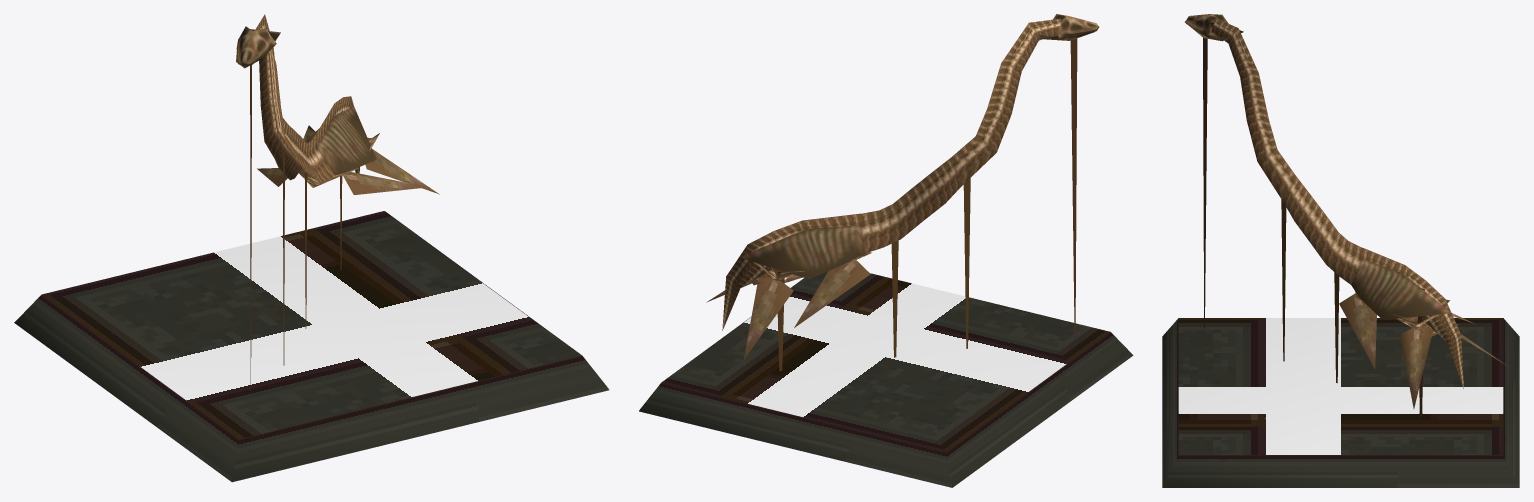
The model's file is int_din_suz_m.dae.
3 renders of one model, left to right at view 1: azimuth 30°, elevation 25°; view 2: azimuth 150°, elevation 25°; view 3: azimuth 270°, elevation 25°, orthographic. The views are drawn at different scales.
Parts seen in each view (by area): view 1: int_din_suz_m; view 2: int_din_suz_m; view 3: int_din_suz_m.
Part boxes in pixels (<box>): int_din_suz_m: <box>14,14,609,482</box>; int_din_suz_m: <box>639,14,1133,487</box>; int_din_suz_m: <box>1162,14,1519,487</box>.
Size of the model in its own units: 26.68 by 30.56 by 26.65.
4 materials, 4 textured.
